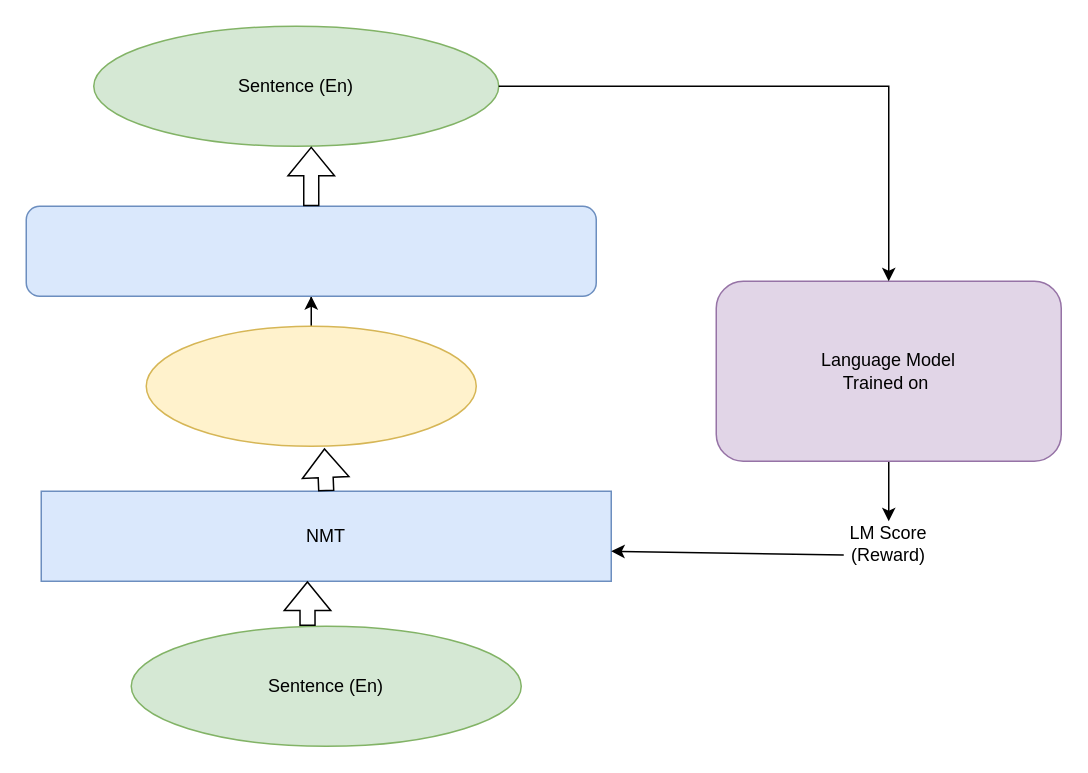
Some shapes in this 1088 by 773 pixel diagram are drawn without their labels. The shapes that lost their labels are listed below. From the top down, each one's centre as x and y in pixels, then its label:
the point at 310,250: NMT for Back-translation
the point at 310,385: Sentence (Hi)
